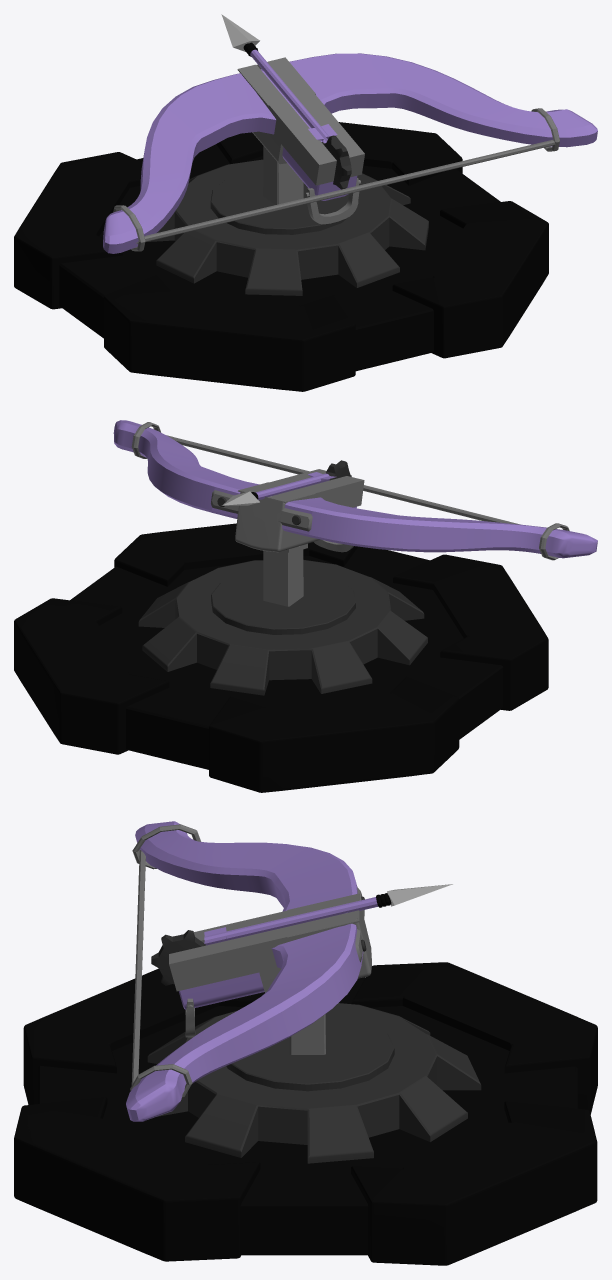
The model's file is xbow.glb.
3 views of the same model, one above another, from view 1: azimuth 30°, elevation 25°; view 2: azimuth 150°, elevation 25°; view 3: azimuth 270°, elevation 25° (orthographic). The views are drawn at different scales.
Parts seen in each view (by area): view 1: Xbow_black_One:polySurface1, Xbow_black_One:pCylinder1, Xbow_black_One:pCube1, Xbow_black_One:pCube2, Xbow_black_One:pasted__pCube3, Xbow_black_One:pasted__pCube2, Xbow_black_One:pCube13, Xbow_black_One:pasted__pCube1, Xbow_black_One:pCube18, Xbow_black_One:pCube4, Xbow_black_One:pCylinder6, Xbow_black_One:pCube17 (+3 smaller); view 2: Xbow_black_One:pCylinder1, Xbow_black_One:pCube2, Xbow_black_One:pasted__pCube2, Xbow_black_One:polySurface1, Xbow_black_One:pasted__pCube1, Xbow_black_One:pCube1, Xbow_black_One:pasted__pCube3, Xbow_black_One:pCube13, Xbow_black_One:pCube4, Xbow_black_One:pCube18, Xbow_black_One:polySurface2, Xbow_black_One:pCylinder6; view 3: Xbow_black_One:pCylinder1, Xbow_black_One:pCube2, Xbow_black_One:pasted__pCube1, Xbow_black_One:pasted__pCube3, Xbow_black_One:polySurface1, Xbow_black_One:pasted__pCube2, Xbow_black_One:pCube1, Xbow_black_One:pCube13, Xbow_black_One:pCylinder6, Xbow_black_One:pCube12, Xbow_black_One:pCube18, Xbow_black_One:pCylinder2 (+3 smaller).
Part boxes in pixels (box(x1,y1,x2,y2)): Xbow_black_One:polySurface1: box(103, 53, 597, 253); Xbow_black_One:pCylinder1: box(146, 159, 428, 295); Xbow_black_One:pCube1: box(104, 275, 355, 391); Xbow_black_One:pCube2: box(59, 144, 500, 371); Xbow_black_One:pasted__pCube3: box(392, 201, 548, 358); Xbow_black_One:pasted__pCube2: box(14, 152, 142, 309); Xbow_black_One:pCube13: box(241, 58, 364, 185); Xbow_black_One:pasted__pCube1: box(216, 122, 462, 185); Xbow_black_One:pCube18: box(136, 140, 555, 243); Xbow_black_One:pCube4: box(263, 146, 303, 204); Xbow_black_One:pCylinder6: box(250, 49, 337, 143); Xbow_black_One:pCube17: box(306, 178, 359, 224); Xbow_black_One:pCylinder1: box(138, 559, 427, 695); Xbow_black_One:pCube2: box(70, 546, 503, 769); Xbow_black_One:pasted__pCube2: box(209, 677, 459, 792); Xbow_black_One:polySurface1: box(113, 420, 597, 558); Xbow_black_One:pasted__pCube1: box(14, 598, 169, 754); Xbow_black_One:pCube1: box(393, 554, 548, 710); Xbow_black_One:pasted__pCube3: box(114, 523, 357, 586); Xbow_black_One:pCube13: box(235, 469, 364, 552); Xbow_black_One:pCube4: box(263, 543, 307, 606); Xbow_black_One:pCube18: box(166, 435, 520, 524); Xbow_black_One:polySurface2: box(211, 490, 312, 531); Xbow_black_One:pCylinder6: box(255, 472, 336, 500); Xbow_black_One:pCylinder1: box(147, 1003, 481, 1163); Xbow_black_One:pCube2: box(38, 977, 577, 1255); Xbow_black_One:pasted__pCube1: box(351, 1101, 597, 1265); Xbow_black_One:pasted__pCube3: box(14, 1097, 260, 1261); Xbow_black_One:polySurface1: box(126, 821, 363, 1121); Xbow_black_One:pasted__pCube2: box(351, 962, 597, 1114); Xbow_black_One:pCube1: box(23, 968, 264, 1104); Xbow_black_One:pCube13: box(169, 895, 371, 992); Xbow_black_One:pCylinder6: box(204, 897, 377, 945); Xbow_black_One:pCube12: box(178, 972, 264, 1009); Xbow_black_One:pCube18: box(131, 850, 145, 1085); Xbow_black_One:pCylinder2: box(151, 930, 205, 985).
Bounding box in the file's own units: 1.96 × 0.8475 × 1.72.
